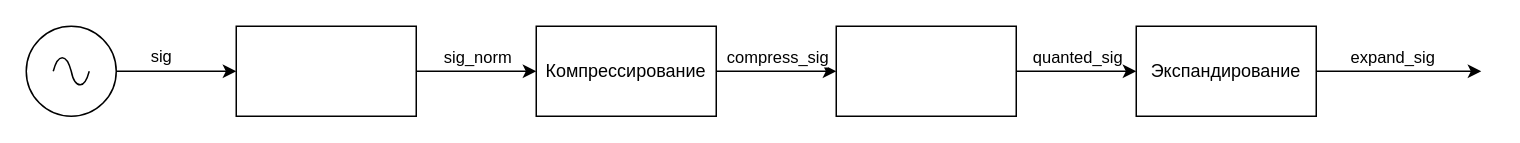
The diagram is 1520 pixels wide and 143 high, and some of its shapes have lost their labels. Each missing label, with the box of its shape:
Квантование: (835, 25, 1016, 116)
Нормирование сигнала: (235, 25, 416, 116)
